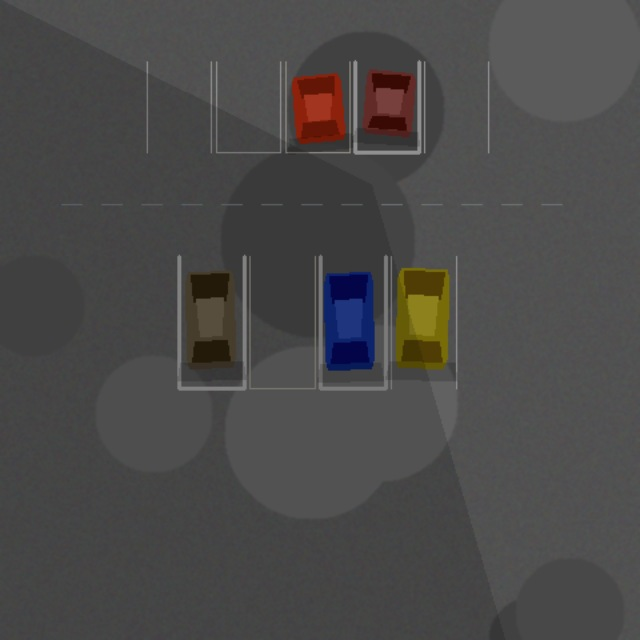space-empty: (249, 256, 315, 388), (147, 61, 211, 152), (216, 61, 280, 152), (424, 61, 488, 152)
space-occupied: (179, 256, 244, 388), (320, 256, 385, 388), (391, 256, 456, 388), (285, 61, 349, 152), (355, 61, 419, 152)
